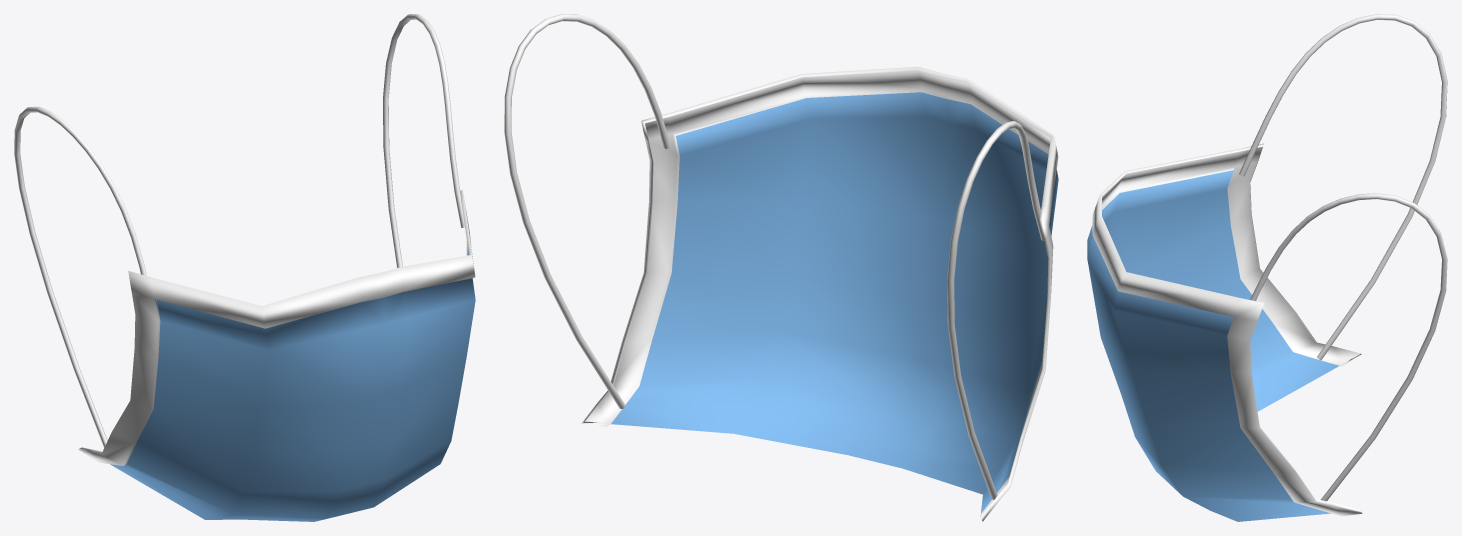
Rendered from mask.fbx.
3 views of the same model, side by side, from view 1: azimuth 30°, elevation 25°; view 2: azimuth 150°, elevation 25°; view 3: azimuth 270°, elevation 25° (orthographic). The views are drawn at different scales.
Visible parts, largest first — view 1: Plane; view 2: Plane; view 3: Plane.
Boxes of the visible parts, left/top/right/bottom form: Plane: left=14, top=14, right=475, bottom=521; Plane: left=504, top=14, right=1058, bottom=521; Plane: left=1087, top=14, right=1447, bottom=521.
Size of the model in its own units: 16.62 by 15.86 by 13.75.
